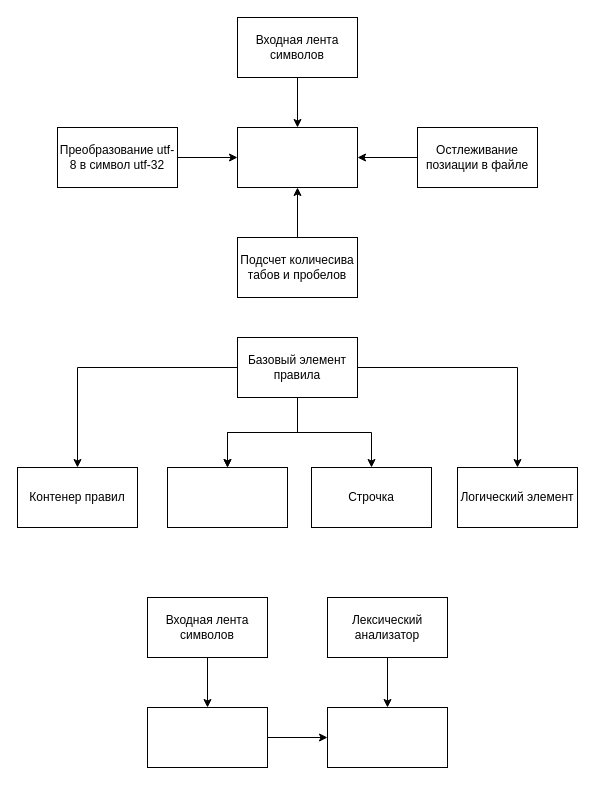
This 595x785 diagram has some shape labels left out. Here are the shapes that lost their labels. From the top down, the box of each, then its label:
(236, 126, 358, 188): Генератор символом
(166, 466, 288, 528): Множество символов
(146, 706, 268, 768): Генератор символом utf-32
(326, 706, 448, 768): Токенизатор
